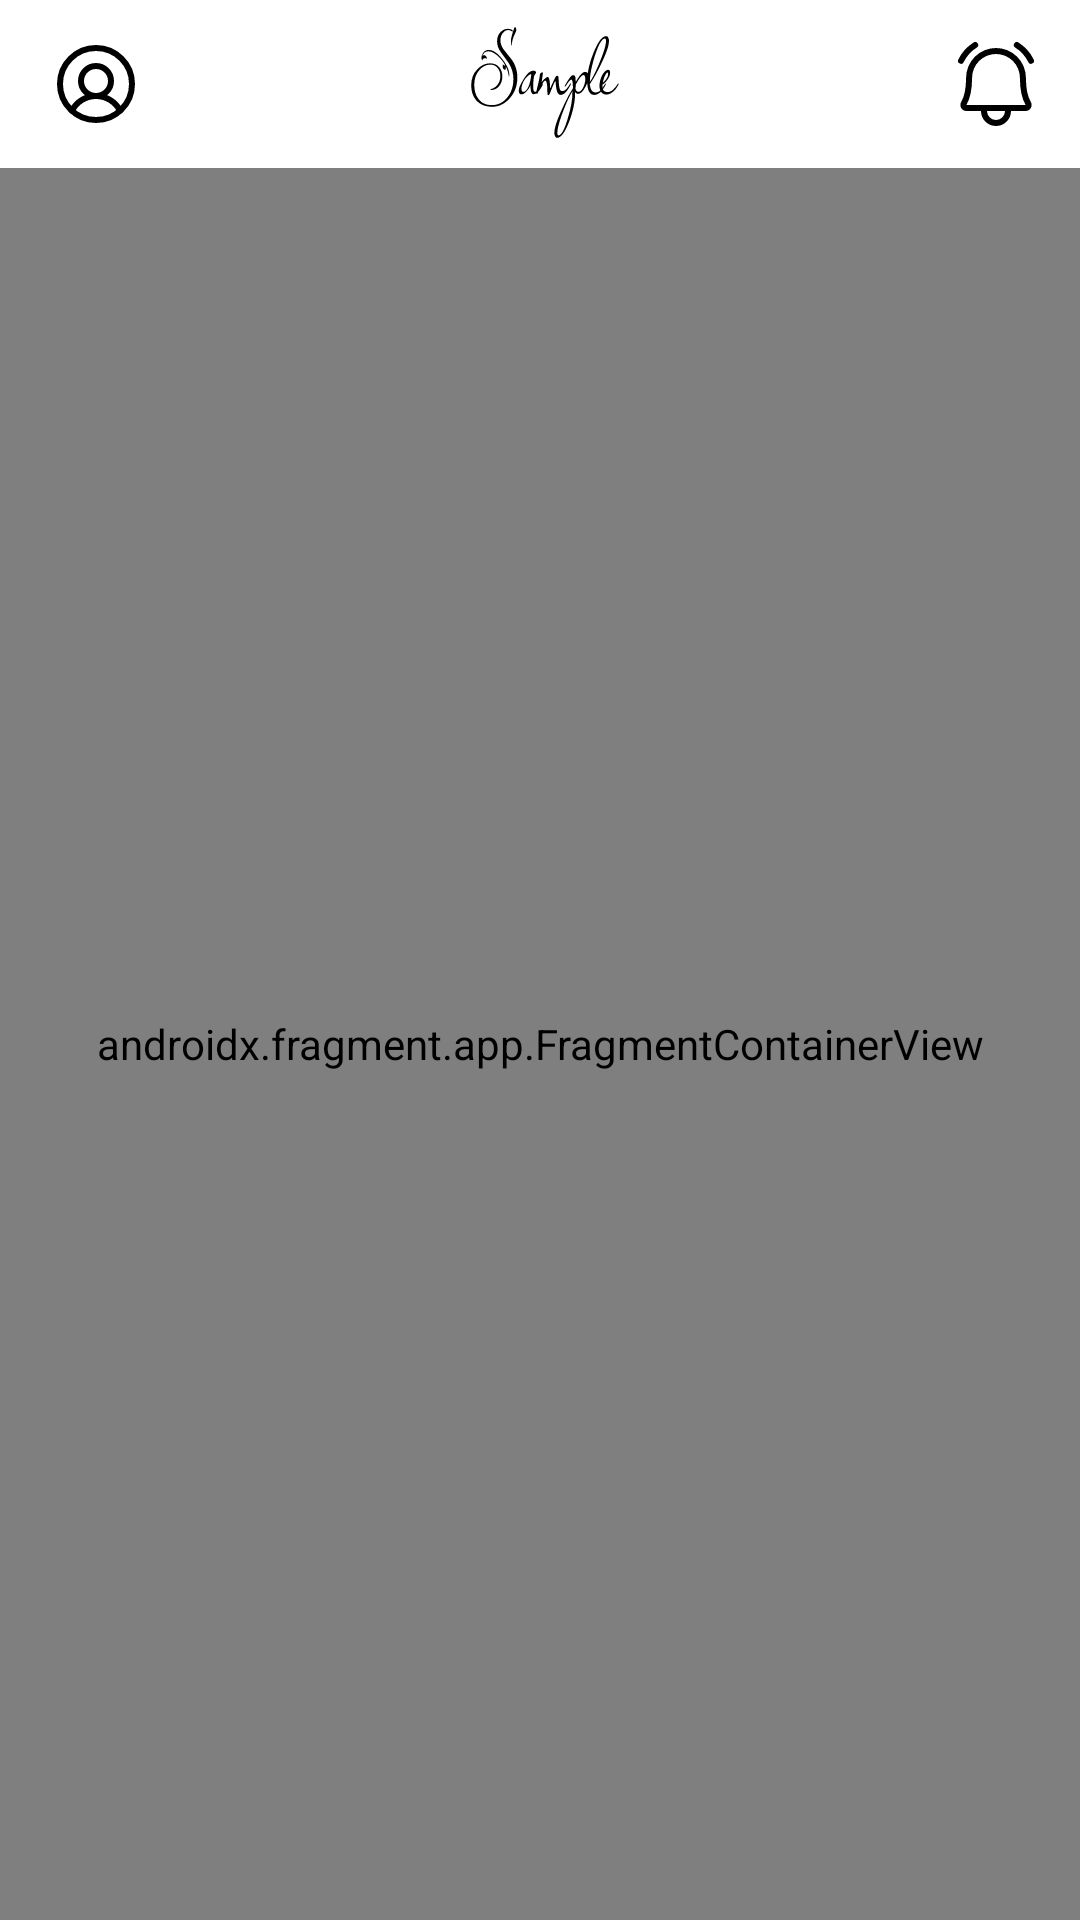

Where icons sit on this 1080 x 1920 app screen, as (x1, y1, x2, y2):
bell ringing: (958, 42, 1034, 126)
user circle: (57, 45, 135, 123)
